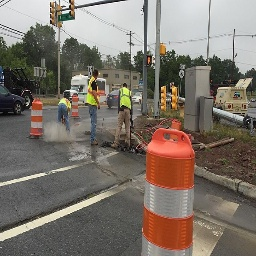no-helmet: (91, 68, 99, 80)
person: (86, 67, 101, 148), (117, 82, 134, 152), (58, 92, 72, 136)
vest: (87, 78, 100, 112), (120, 87, 133, 112)
